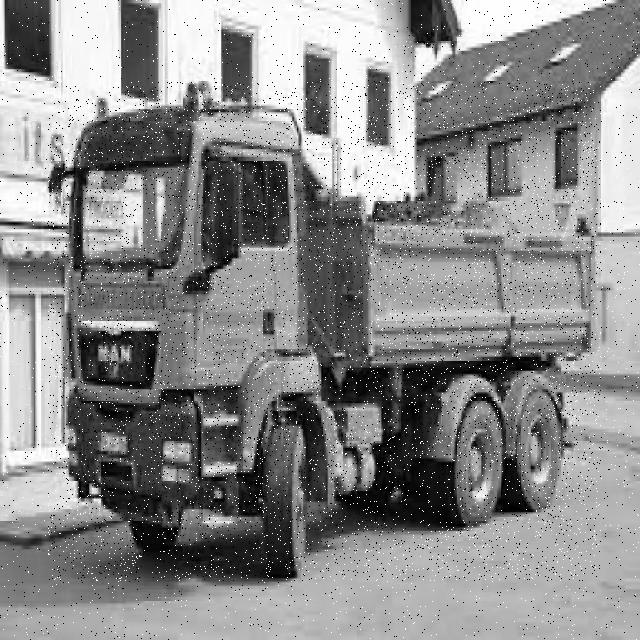Box Truck: (48, 82, 601, 581)
